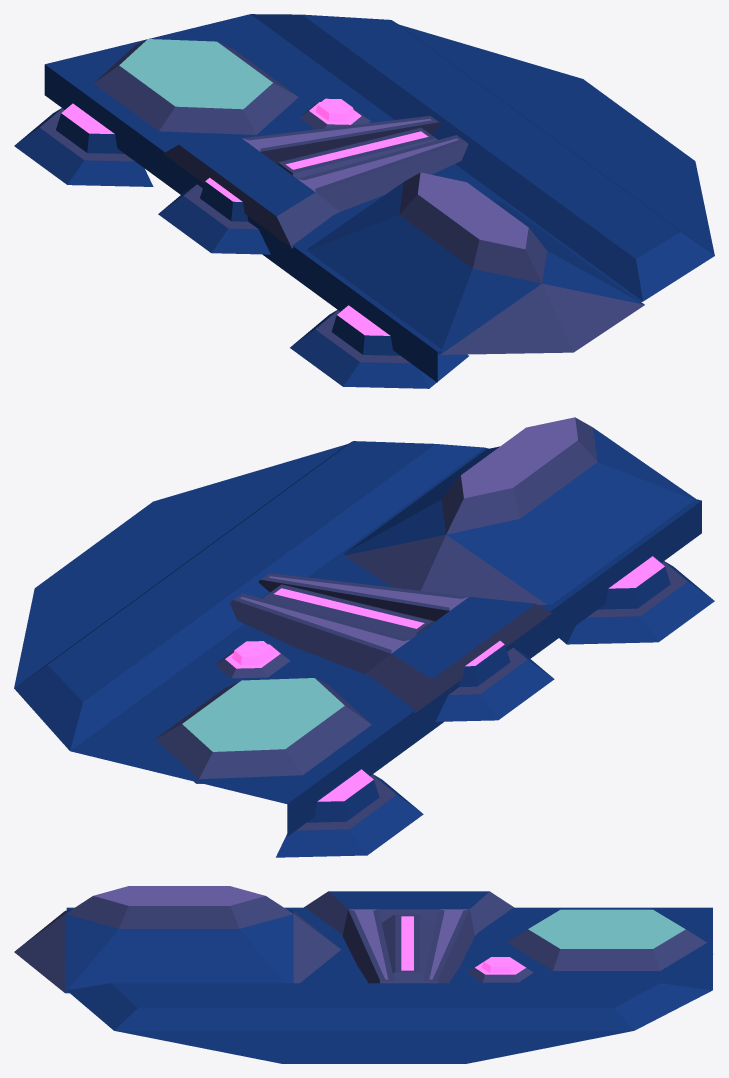
File: porte_bleu_Mine 1.fbx
3 renders of one model, top to bottom at view 1: azimuth 30°, elevation 25°; view 2: azimuth 150°, elevation 25°; view 3: azimuth 270°, elevation 25°, orthographic. The views are drawn at different scales.
Parts seen in each view (by area): view 1: Porte_droite; view 2: Porte_droite; view 3: Porte_droite.
Part boxes in pixels (<box>): Porte_droite: <box>14,14,714,388</box>; Porte_droite: <box>14,417,714,857</box>; Porte_droite: <box>14,886,712,1063</box>.
Bounding box in the file's own units: 123 × 31.18 × 205.
